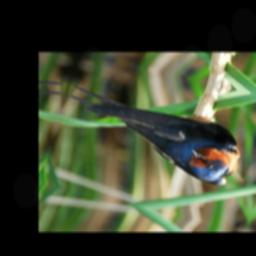Swallow: (52, 84, 252, 191)
